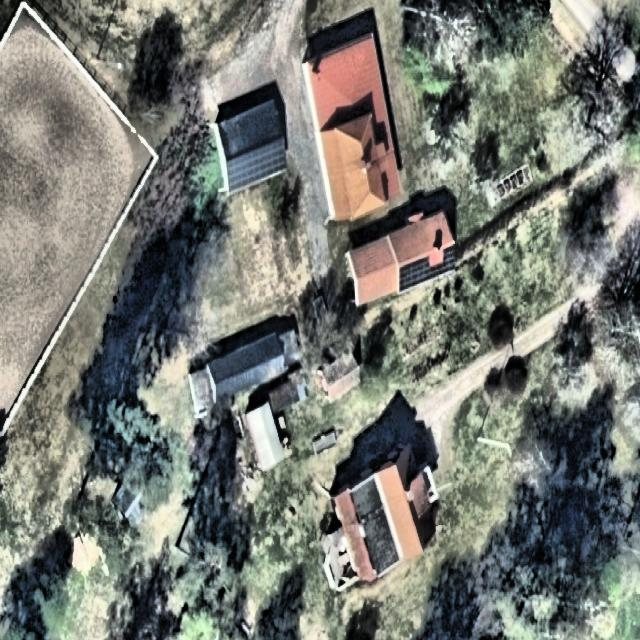roof_pv: (228, 138, 286, 180), (399, 254, 435, 292), (442, 241, 462, 272), (428, 261, 447, 281)
